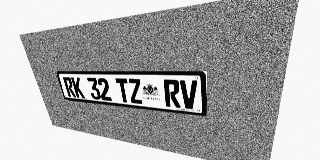2: (97, 78, 112, 101)
3: (87, 78, 101, 100)
K: (71, 77, 85, 98)
R: (163, 79, 181, 108), (62, 77, 76, 97)
T: (115, 78, 131, 103)
V: (180, 80, 198, 109)
Z: (127, 79, 143, 104)
